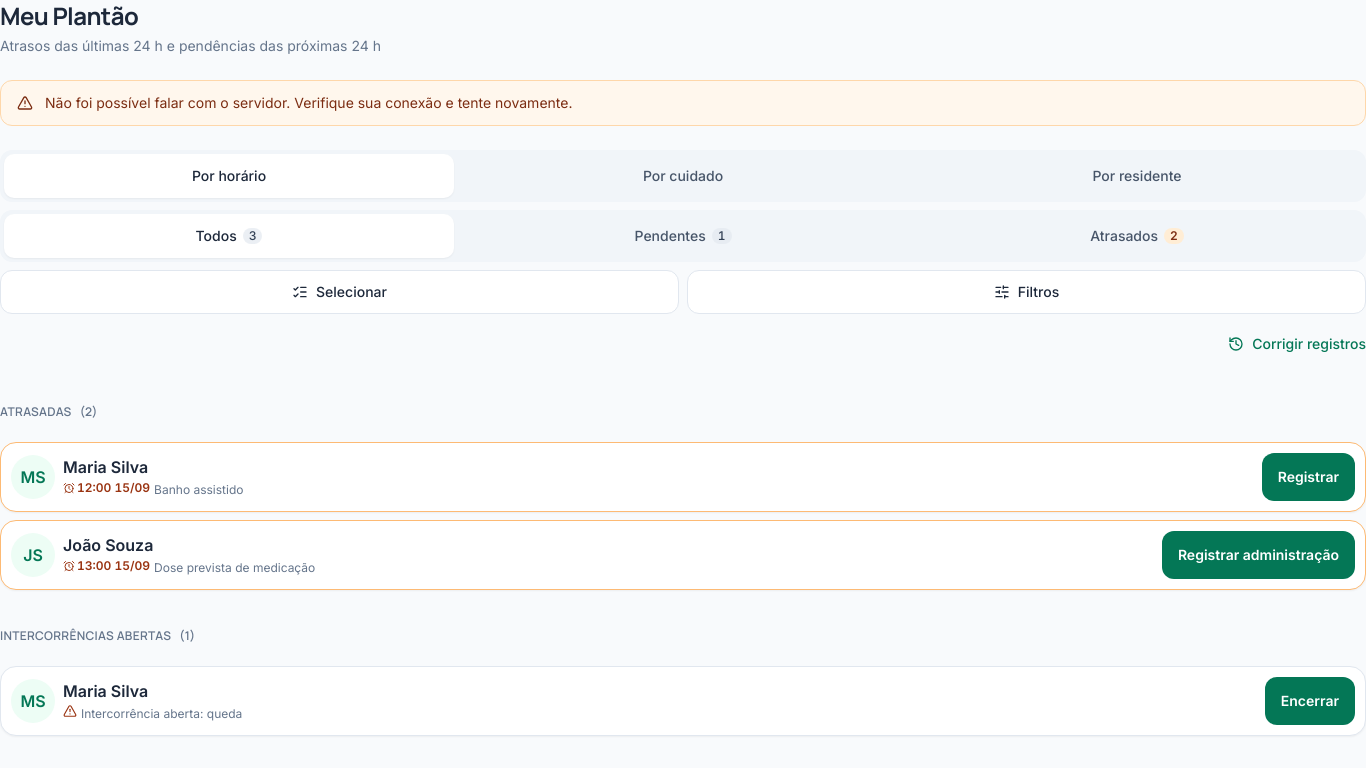
MeuPlantao — validações condicionais espelham o backend › 12. desfecho vazio bloqueia o encerramento
Click the button "Encerrar": {"x": 1310, "y": 701} [1265,677,1355,725]
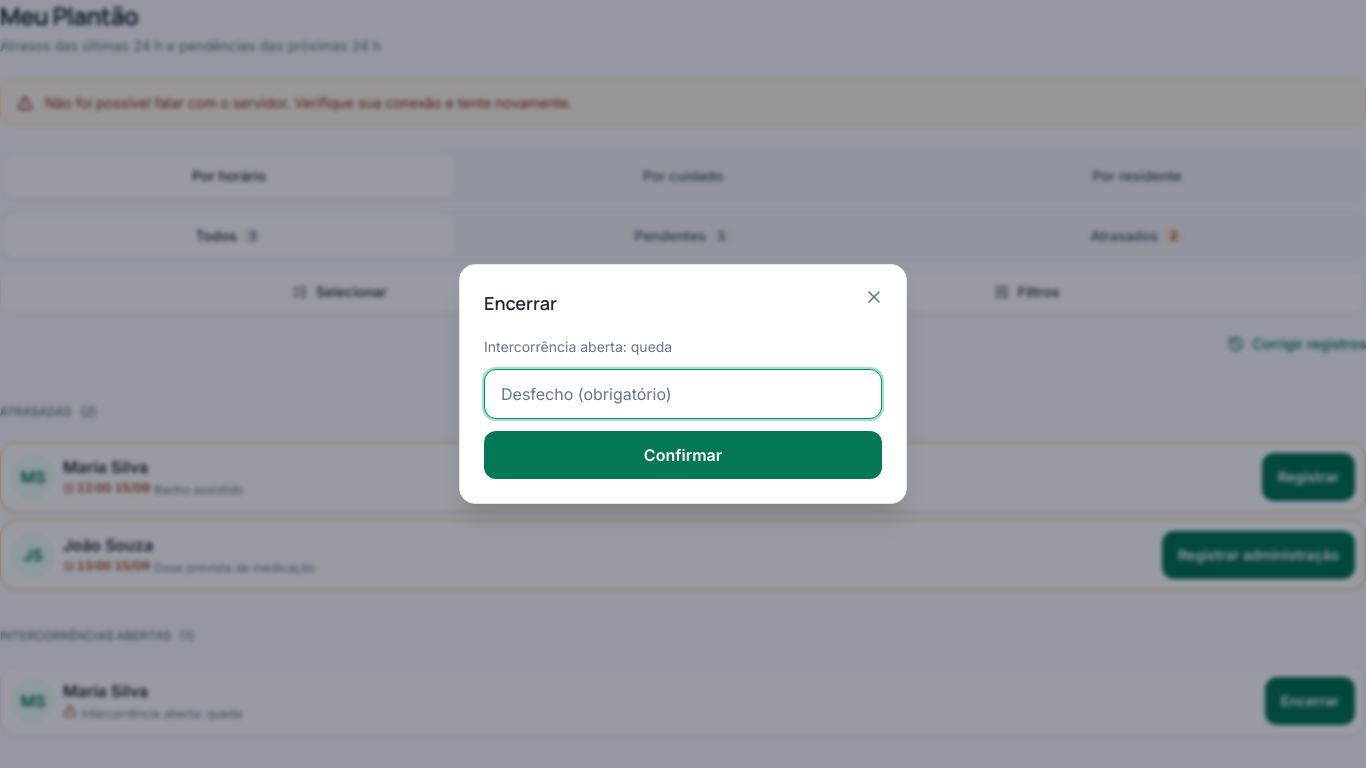
Click the button "Confirmar": {"x": 683, "y": 455} [484,431,882,479]
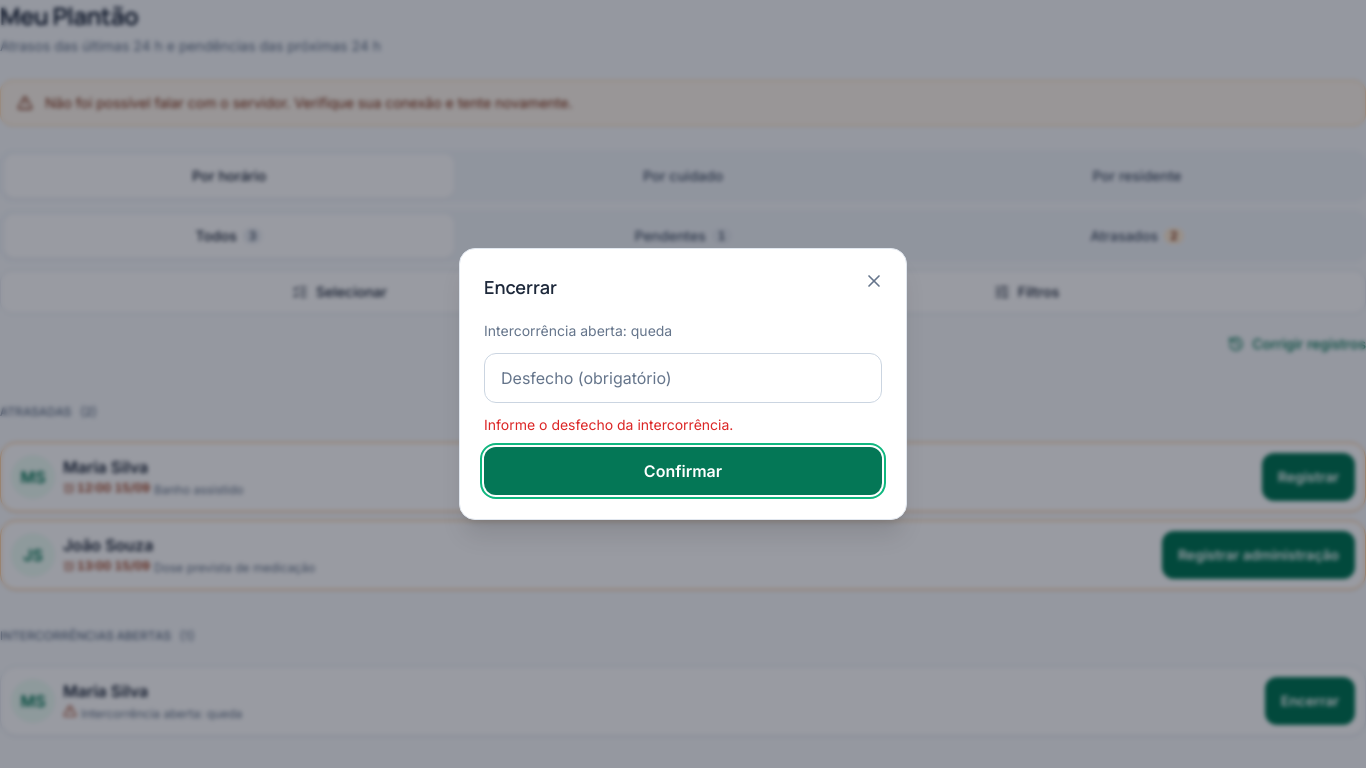
expect the text "Informe o desfecho da intercorrência." is shown: met, box [484,416,733,433]
